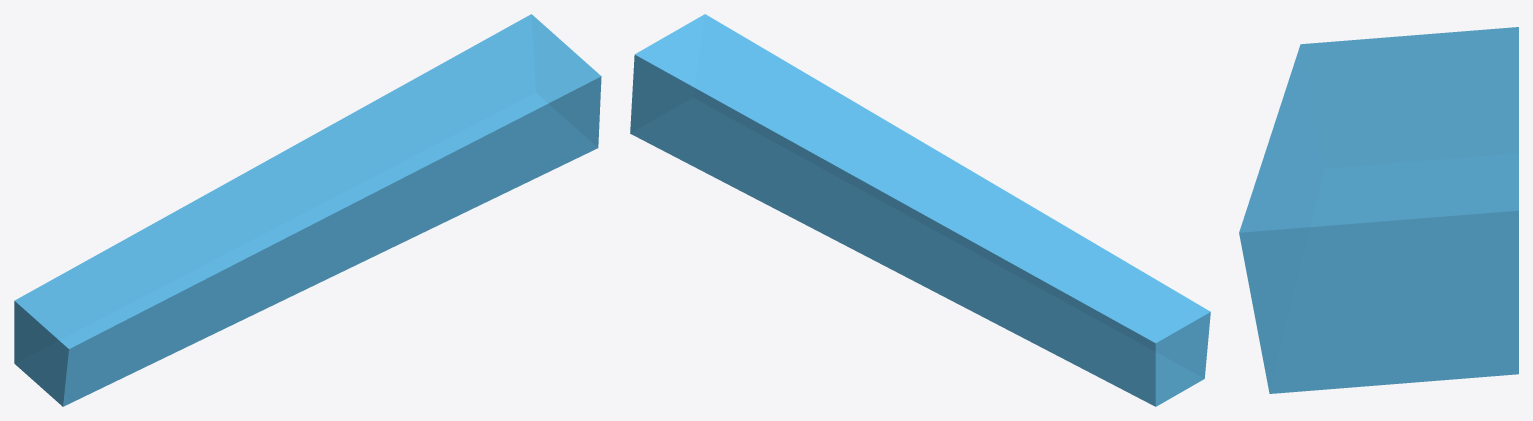
The model's file is Event_421115418_HErechit_49.fbx.
The picture shows the model from 3 angles, left to right: view 1: azimuth 30°, elevation 25°; view 2: azimuth 150°, elevation 25°; view 3: azimuth 270°, elevation 25°; orthographic projection. The views are drawn at different scales.
Parts seen in each view (by area): view 1: Model; view 2: Model; view 3: Model.
Boxes of the visible parts, x1=… form: Model: x1=14, y1=14, x2=601, y2=406; Model: x1=630, y1=14, x2=1210, y2=406; Model: x1=1239, y1=27, x2=1518, y2=393.
Bounding box in the file's own units: 2.89 × 1.22 × 0.6713.
